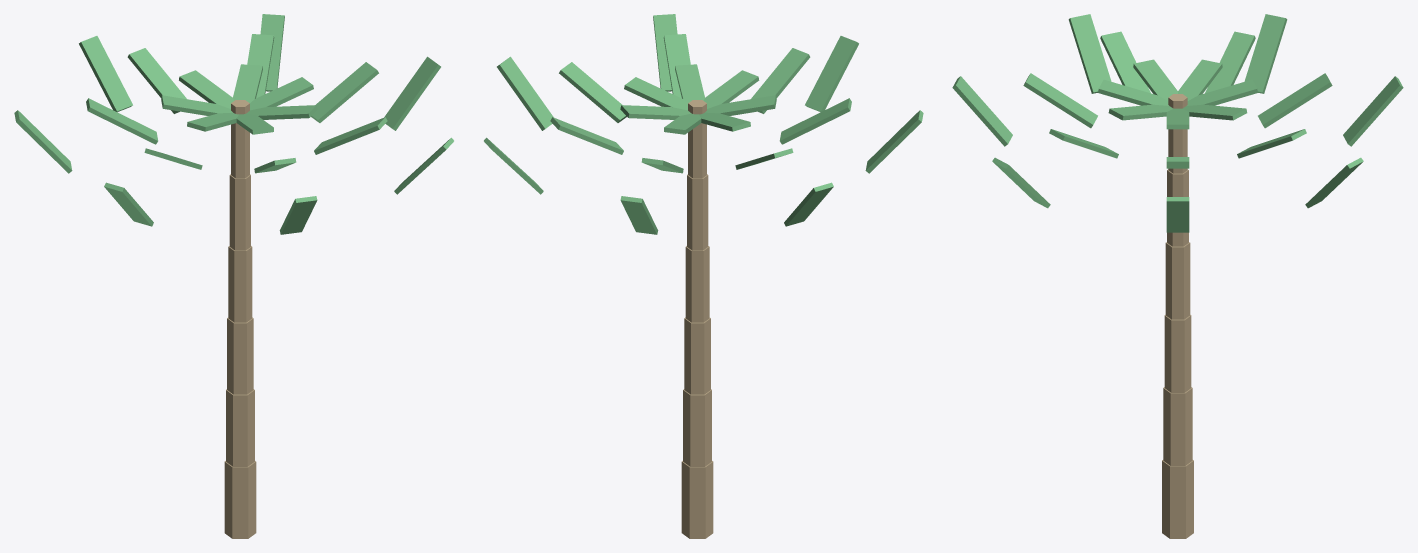
The model's file is palmeira.glb.
The picture shows the model from 3 angles, left to right: view 1: azimuth 30°, elevation 25°; view 2: azimuth 150°, elevation 25°; view 3: azimuth 270°, elevation 25°; orthographic projection.
Parts seen in each view (by area): view 1: Palmeira; view 2: Palmeira; view 3: Palmeira.
Boxes of the visible parts, bbox=[...] form: Palmeira: bbox=[14, 14, 453, 538]; Palmeira: bbox=[484, 14, 923, 538]; Palmeira: bbox=[952, 14, 1403, 538].
Bounding box in the file's own units: 2.75 × 3.04 × 2.82.
